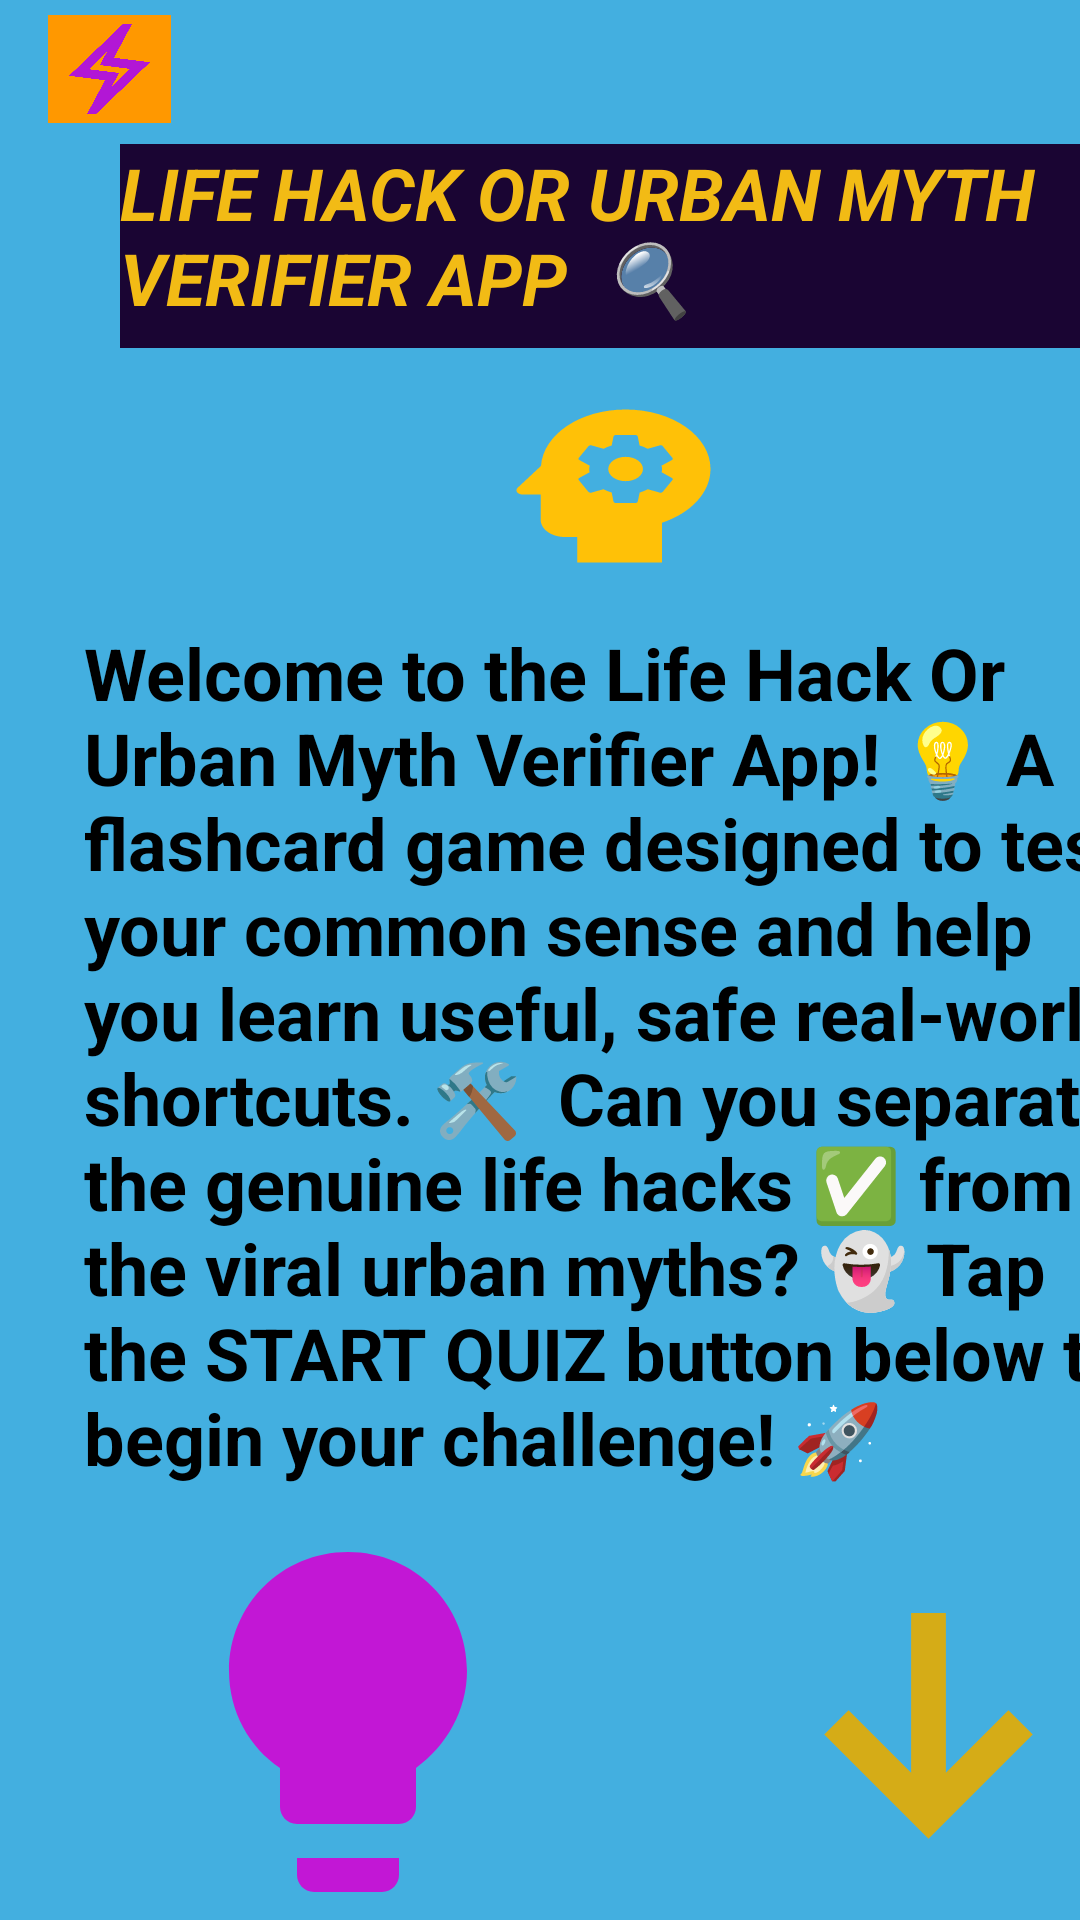

Icons on this 1080 x 1920 Android screen, each with its box as (x1, y1, x2, y2):
electric bolt: (48, 15, 171, 123)
lightbulb: (229, 1552, 467, 1892)
welcome brain: (516, 409, 711, 563)
